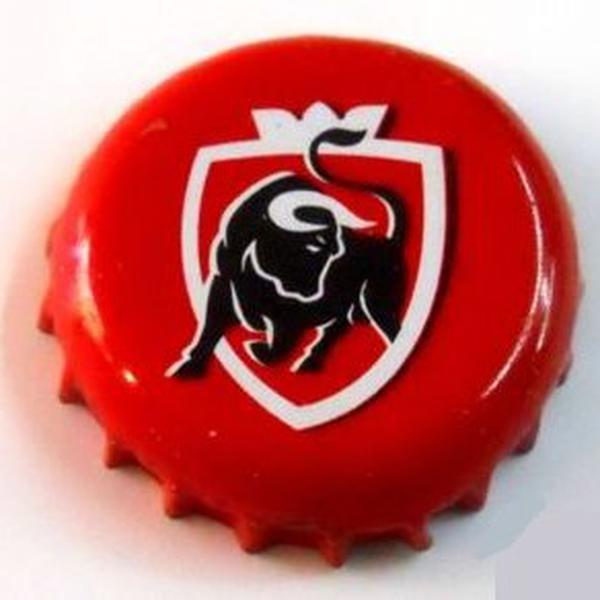jupiler: (25, 15, 588, 572)
